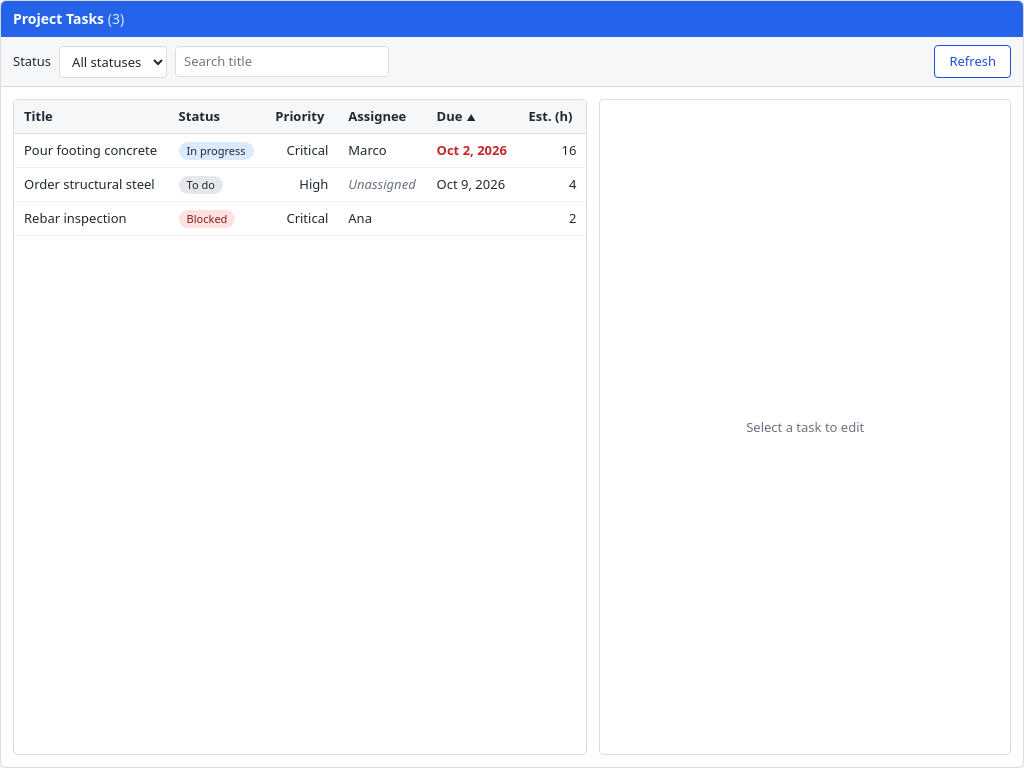
Test: <TasksModule /> › edits the selected task, validates with the shared schema and publishes the save
Step 1. Click the text "Order structural steel" → (91, 184), box x1=14 y1=167 x2=169 y2=201
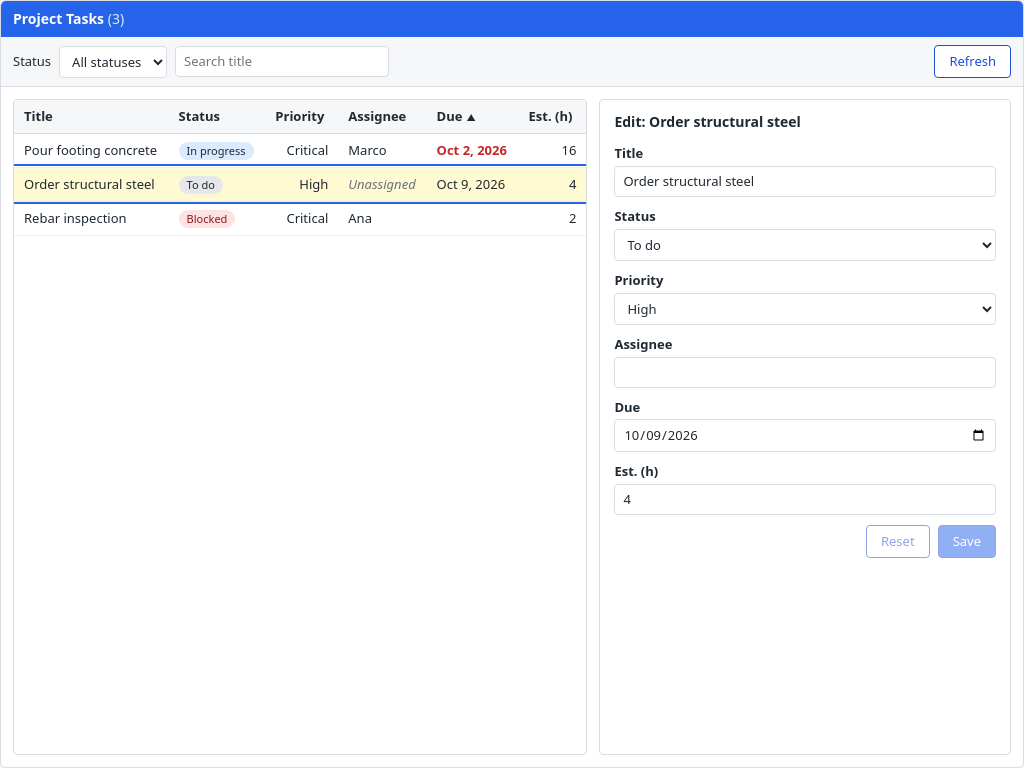
Check: the field labelled "Title" holds "Order structural steel"
Step 2. Clear the field labelled "Title" → (805, 182), box x1=614 y1=166 x2=996 y2=197
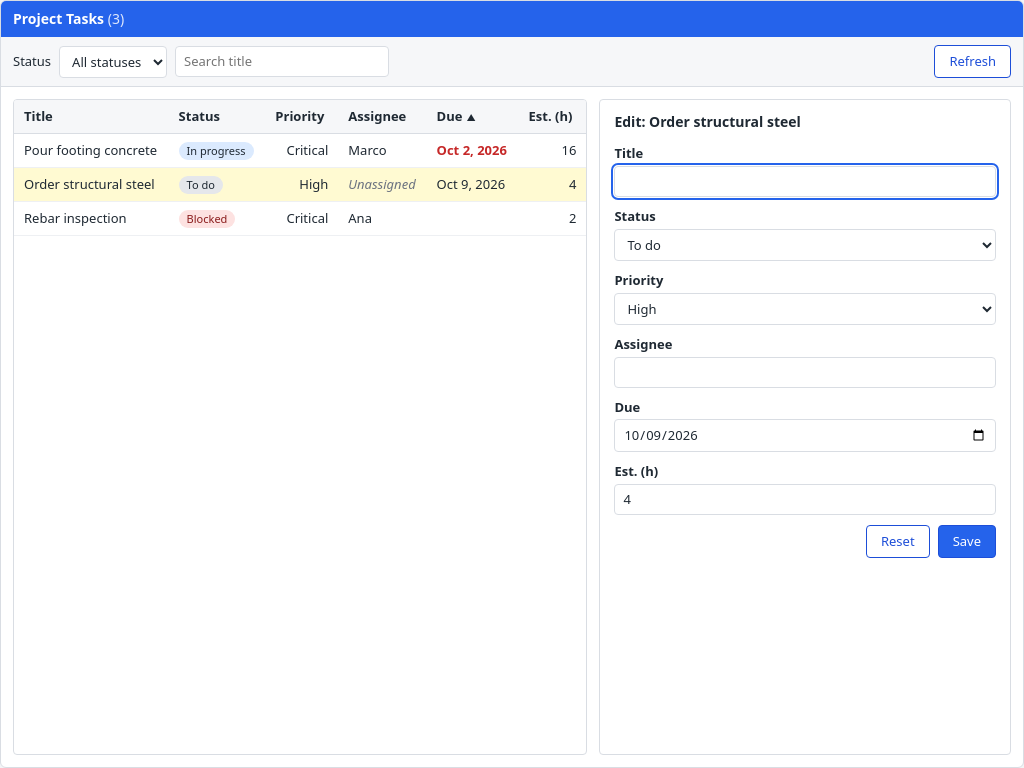
Step 3. Click the button "Save" → (967, 541), box x1=938 y1=525 x2=996 y2=558
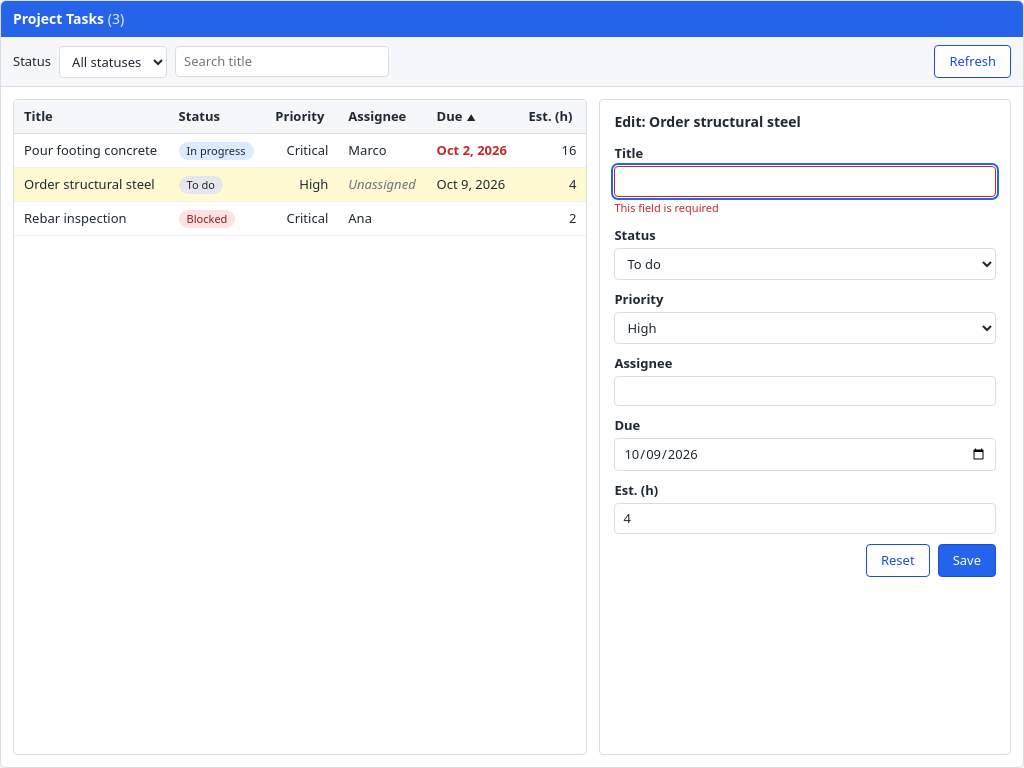
Check: the text "This field is required" is shown, box x1=614 y1=200 x2=719 y2=215
Step 4. Type "Order structural steel (rev B)" into the field labelled "Title" → (805, 182), box x1=614 y1=166 x2=996 y2=197
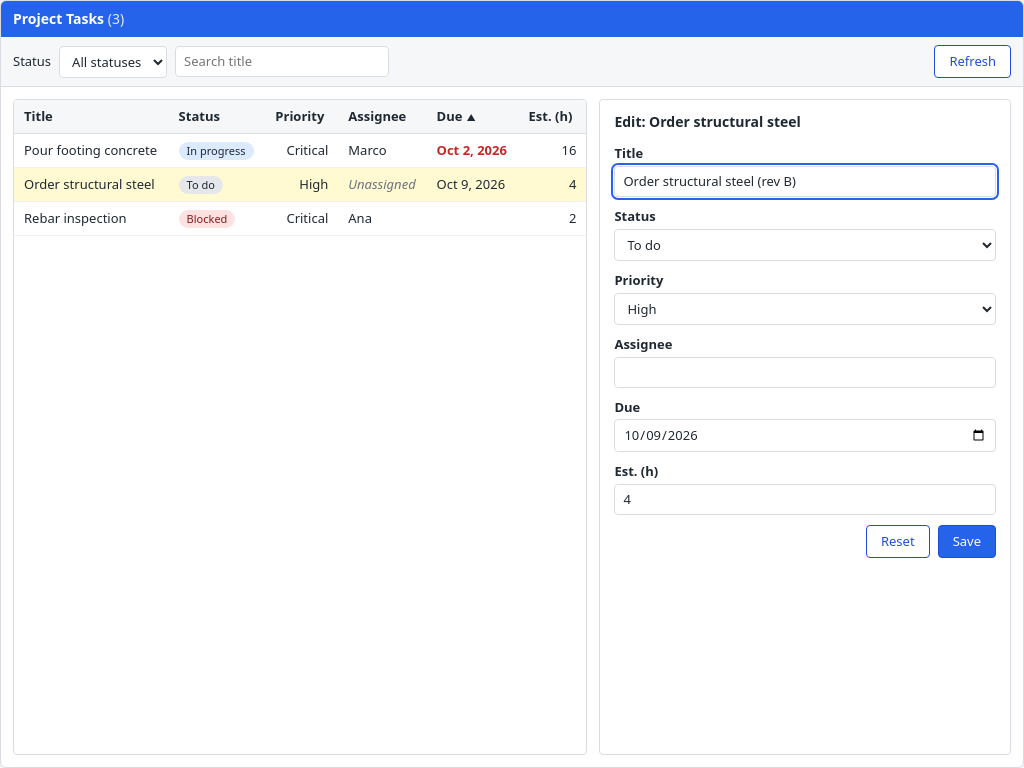
Step 5. Select "Critical" in the dropdown labelled "Priority" → (805, 309), box x1=614 y1=293 x2=996 y2=325
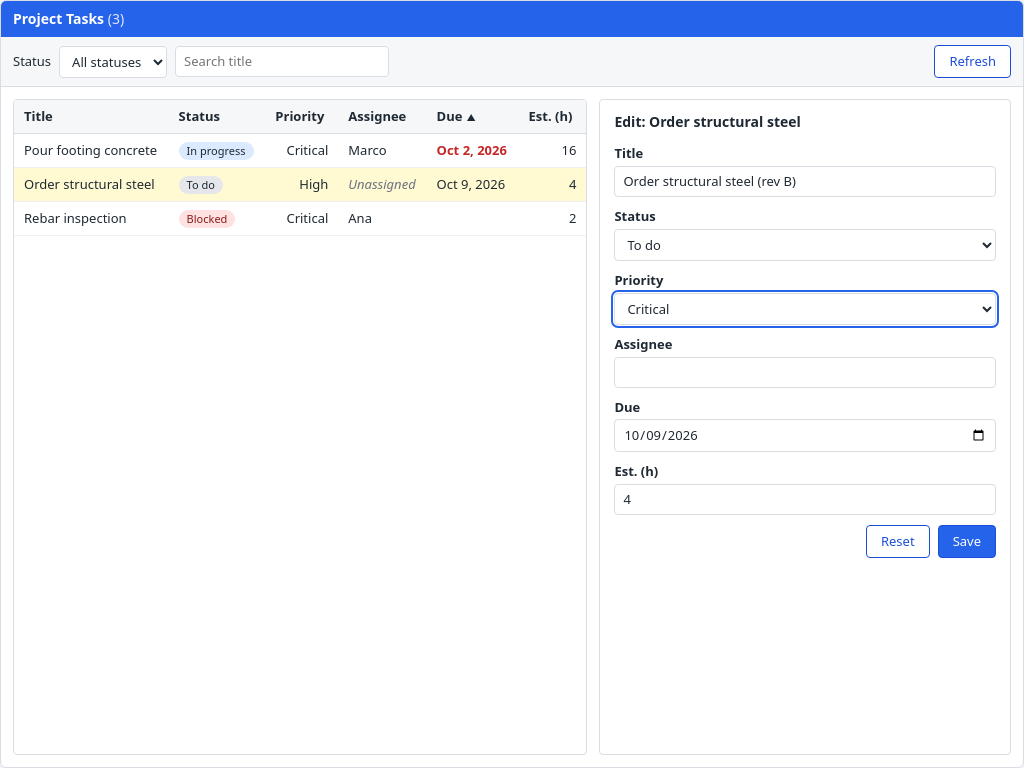
Step 6. Click the button "Save" → (967, 541), box x1=938 y1=525 x2=996 y2=558
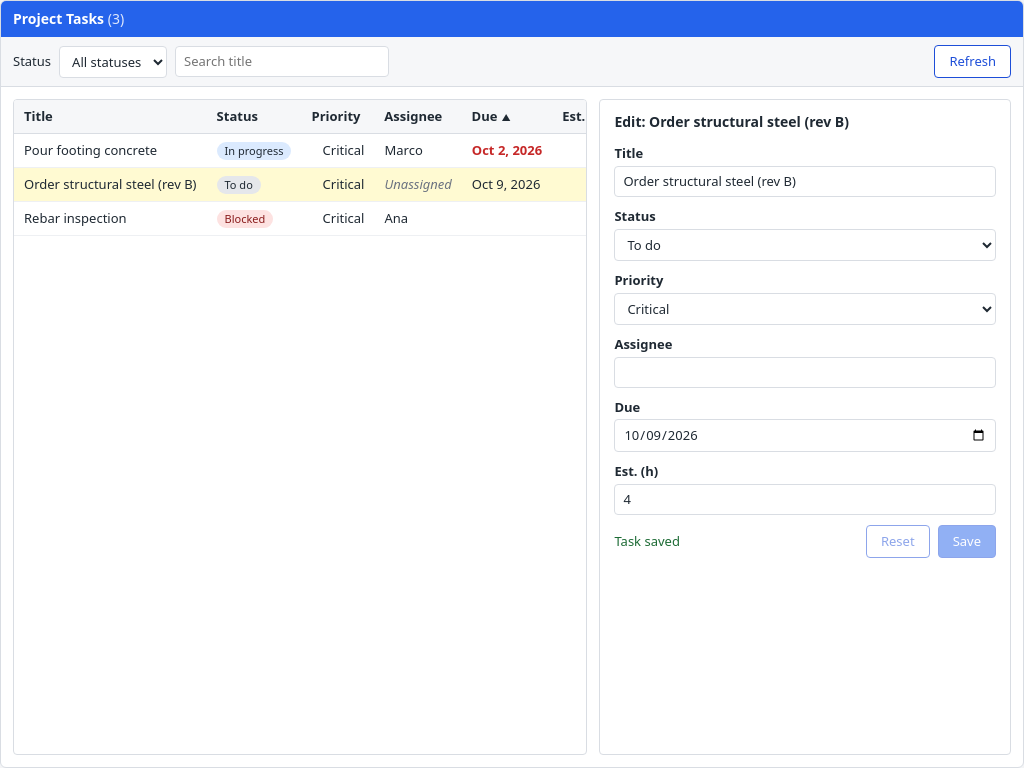
Check: the message reads "Task saved", box x1=614 y1=532 x2=680 y2=550
Check: the text "Order structural steel (rev B)" is shown, box x1=14 y1=167 x2=206 y2=201
